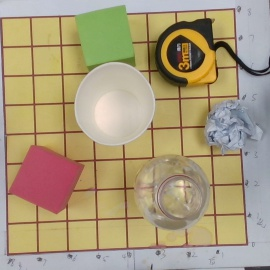bottle: (131, 155, 208, 230)
cup: (73, 62, 155, 148)
